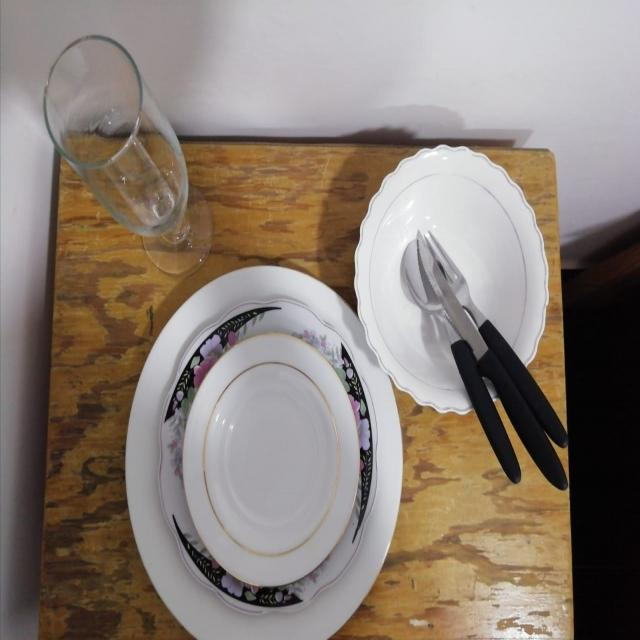non-organic waste: (136, 261, 414, 640), (344, 138, 584, 438), (182, 339, 352, 601)
